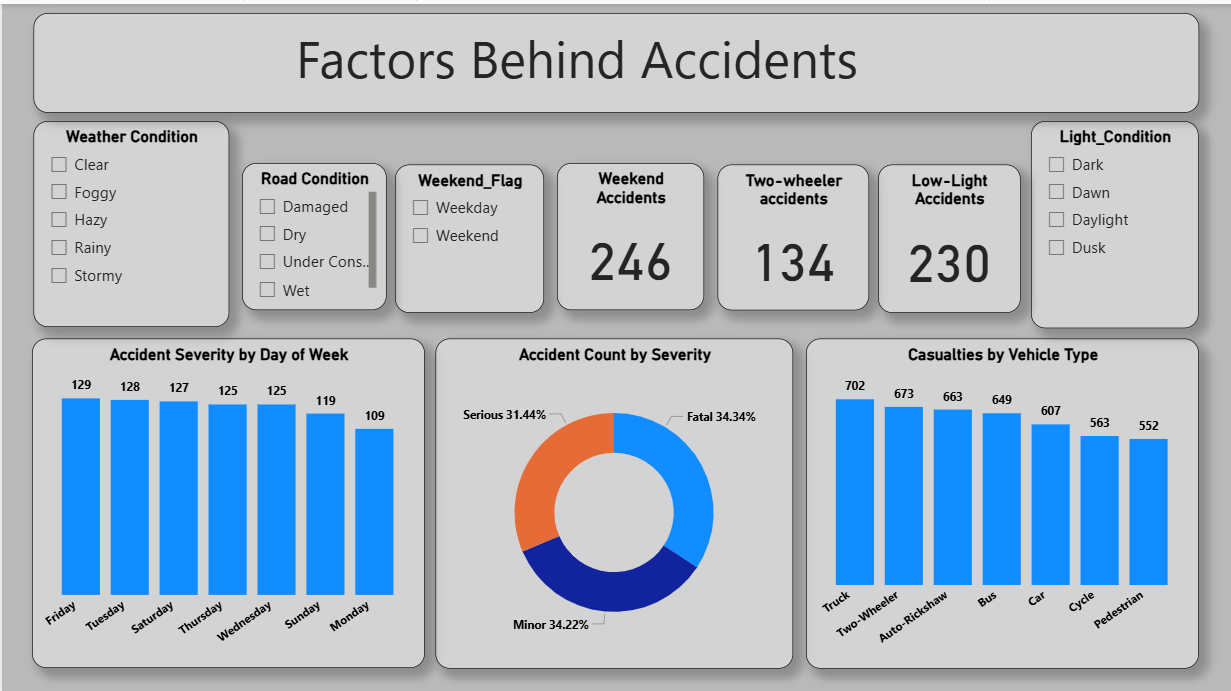

This screenshot's page, from the dashboard's own definition file:
{"tool":"powerbi","page":{"name":"Page 3","canvas":[1280,720],"ordinal":2},"visuals":[{"type":"columnChart","title":"Accident Severity by Day of Week","fields":{"Y":["CountNonNull(accident_dashboard_final.Accident Severity)"],"Category":["accident_dashboard_final.Day of Week"]},"box":[32,348.8,409.4,343.5],"z":0},{"type":"donutChart","title":" Accident Count by Severity","fields":{"Category":["accident_dashboard_final.Accident Severity"],"Y":["Sum(accident_dashboard_final.Accident Count)"]},"box":[451.2,348.7,372.8,343.8],"z":1000},{"type":"columnChart","title":" Casualties by Vehicle Type","fields":{"Category":["accident_dashboard_final.Vehicle Type Involved"],"Y":["Sum(accident_dashboard_final.Number of Casualties)"]},"box":[837.7,348.4,409.6,344.2],"z":2000},{"type":"slicer","title":"Light_Condition","fields":{"Values":["accident_dashboard_final.Lighting Conditions"]},"box":[1072.5,121.9,174.9,216],"z":3000},{"type":"slicer","title":"Weather Condition","fields":{"Values":["accident_dashboard_final.Weather Conditions"]},"box":[32.6,121.9,203.9,214.7],"z":4000},{"type":"slicer","title":"Weekend_Flag","fields":{"Values":["accident_dashboard_final.Weekend_Flag"]},"box":[409,166.5,155.6,154.4],"z":5000},{"type":"card","title":"Weekend Accidents","fields":{"Values":["accident_dashboard_final.Weekend_Accidents"]},"box":[577.9,165.3,153.2,153.2],"z":6000},{"type":"card","title":"Two-wheeler accidents","fields":{"Values":["accident_dashboard_final.TwoWheeler_Accidents"]},"box":[745.6,166.5,158,152],"z":7000},{"type":"card","title":"Low-Light Accidents","fields":{"Values":["accident_dashboard_final.Poor_Lighting_Accidents"]},"box":[913.3,166.5,148.4,154.4],"z":8000},{"type":"textbox","box":[32.6,9.7,1214.9,103.8],"z":9000},{"type":"slicer","title":"Road Condition","fields":{"Values":["accident_dashboard_final.Road Condition"]},"box":[249.7,165.3,150.8,153.2],"z":10000}]}

Visuals, with their boxes in screenshot pixels (x1, y1, x2, y2), scaled from the page's 1280x720 canvas onto the 1231x691 screenshot:
"Accident Severity by Day of Week" columnChart: [31,335,425,664]
" Accident Count by Severity" donutChart: [434,335,792,665]
" Casualties by Vehicle Type" columnChart: [806,334,1200,665]
"Light_Condition" slicer: [1031,117,1200,324]
"Weather Condition" slicer: [31,117,227,323]
"Weekend_Flag" slicer: [393,160,543,308]
"Weekend Accidents" card: [556,159,703,306]
"Two-wheeler accidents" card: [717,160,869,306]
"Low-Light Accidents" card: [878,160,1021,308]
textbox: [31,9,1200,109]
"Road Condition" slicer: [240,159,385,306]
